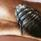cockroach: (16, 2, 40, 38)
